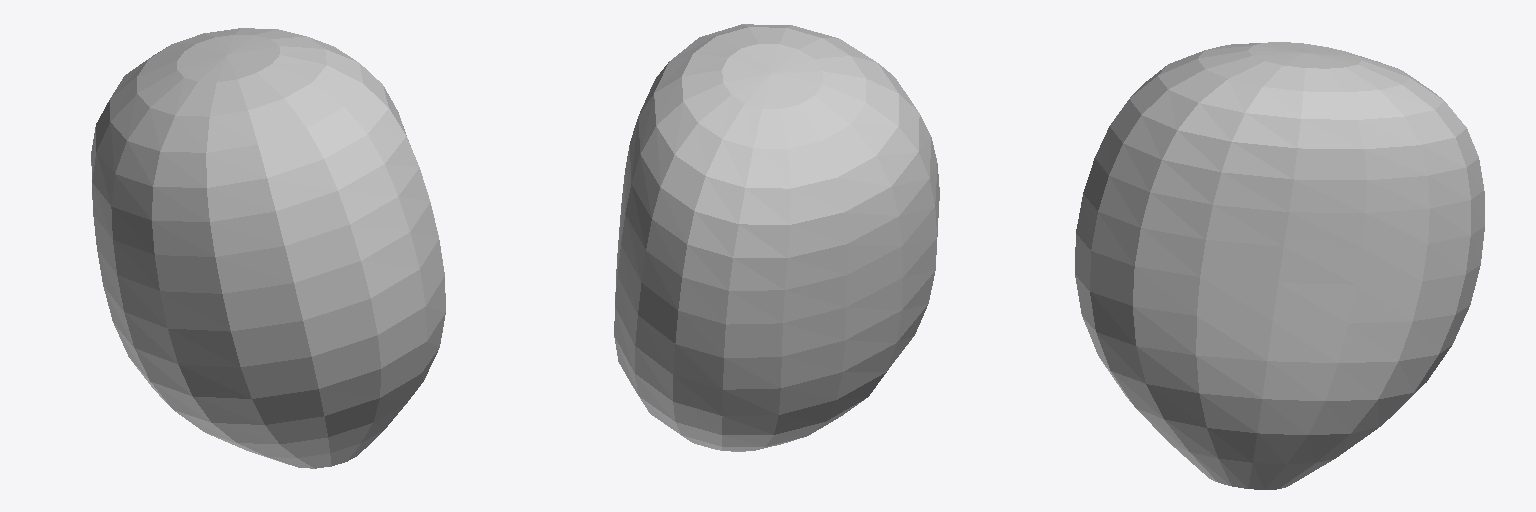
File: pone_boob.obj
3 renders of one model, left to right at view 1: azimuth 30°, elevation 25°; view 2: azimuth 150°, elevation 25°; view 3: azimuth 270°, elevation 25°, orthographic.
Visible parts, largest first — view 1: Sphere.004; view 2: Sphere.004; view 3: Sphere.004.
Part boxes in pixels (bbox=[...]): Sphere.004: bbox=[91, 28, 445, 468]; Sphere.004: bbox=[614, 24, 939, 451]; Sphere.004: bbox=[1075, 42, 1484, 489].
Size of the model in its own units: 6.78 by 9.47 by 8.68.